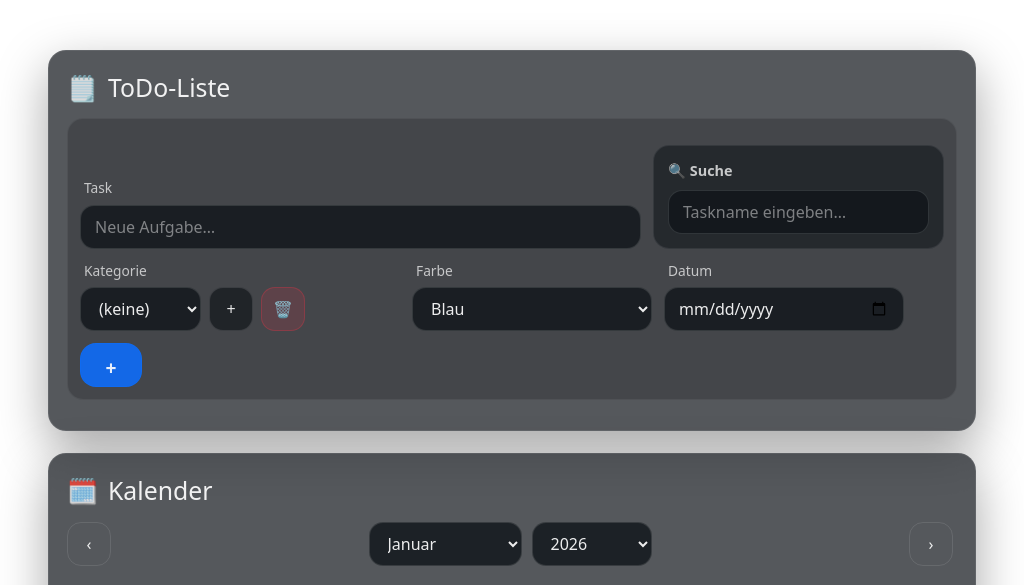
TodoList › erstellt eine Task (POST) und zeigt sie links an
Type "Neu" into the field with placeholder "Neue Aufgabe…".
click(360, 227); type("Neu")  # box 80,205 -> 641,249
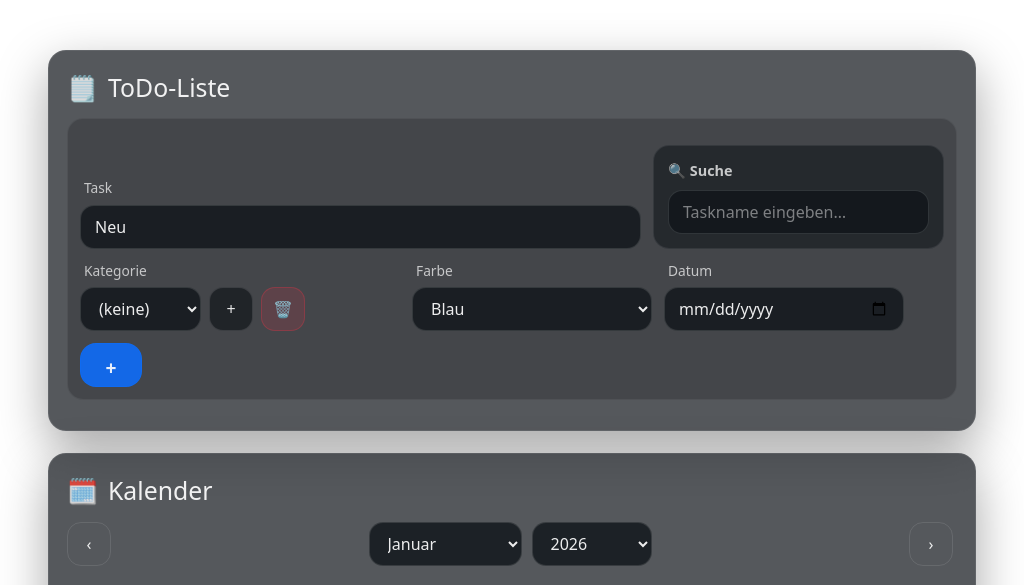
Click the 2nd button titled "Task hinzufügen".
click(111, 365)  # box 80,343 -> 142,387
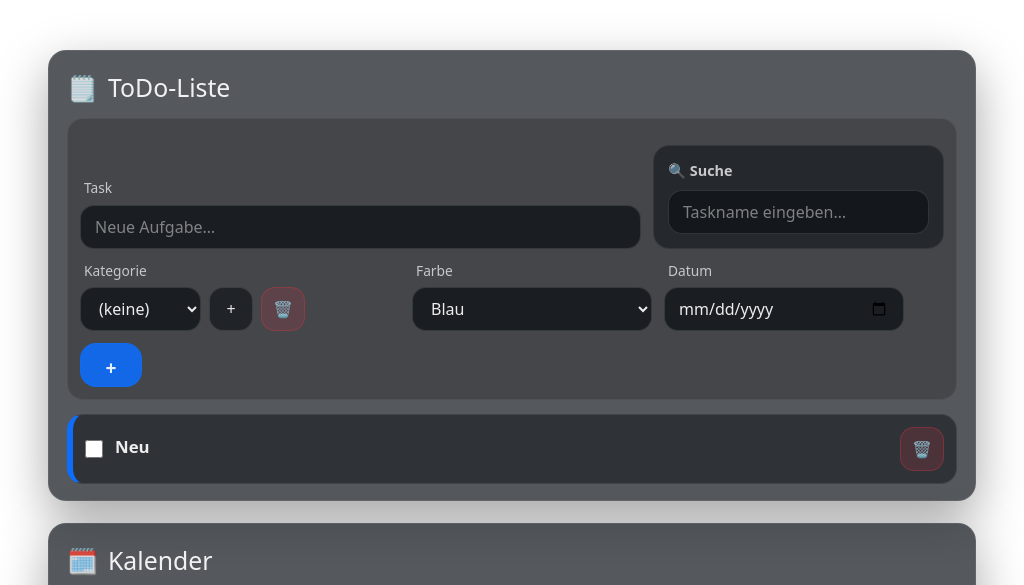
Check: the text "Neu" is shown, box 115,435 -> 150,458
